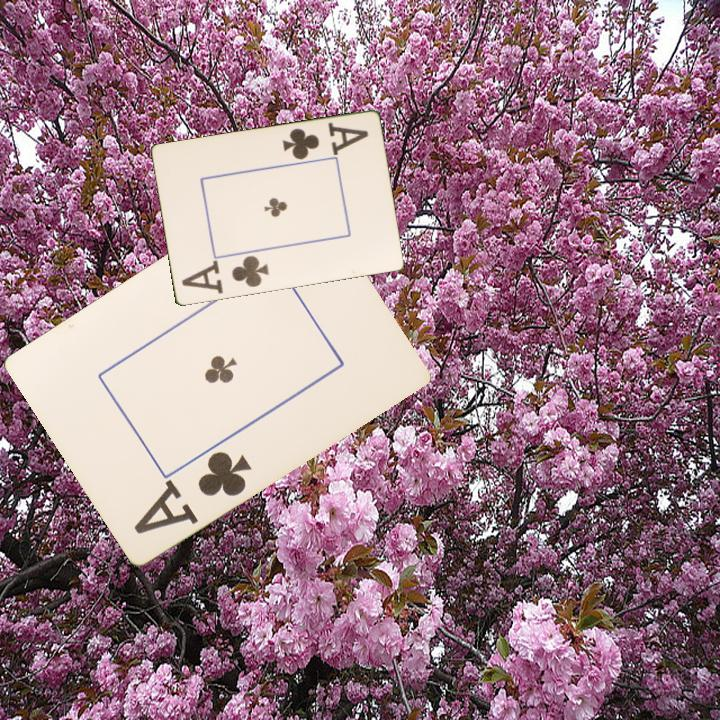Ac: (130, 446, 255, 537), (178, 252, 272, 297), (278, 119, 371, 163)
